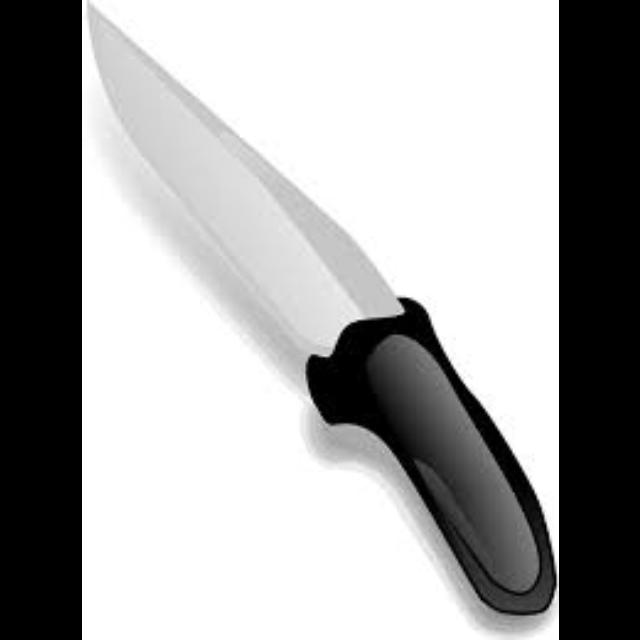knife: (81, 1, 556, 616)
